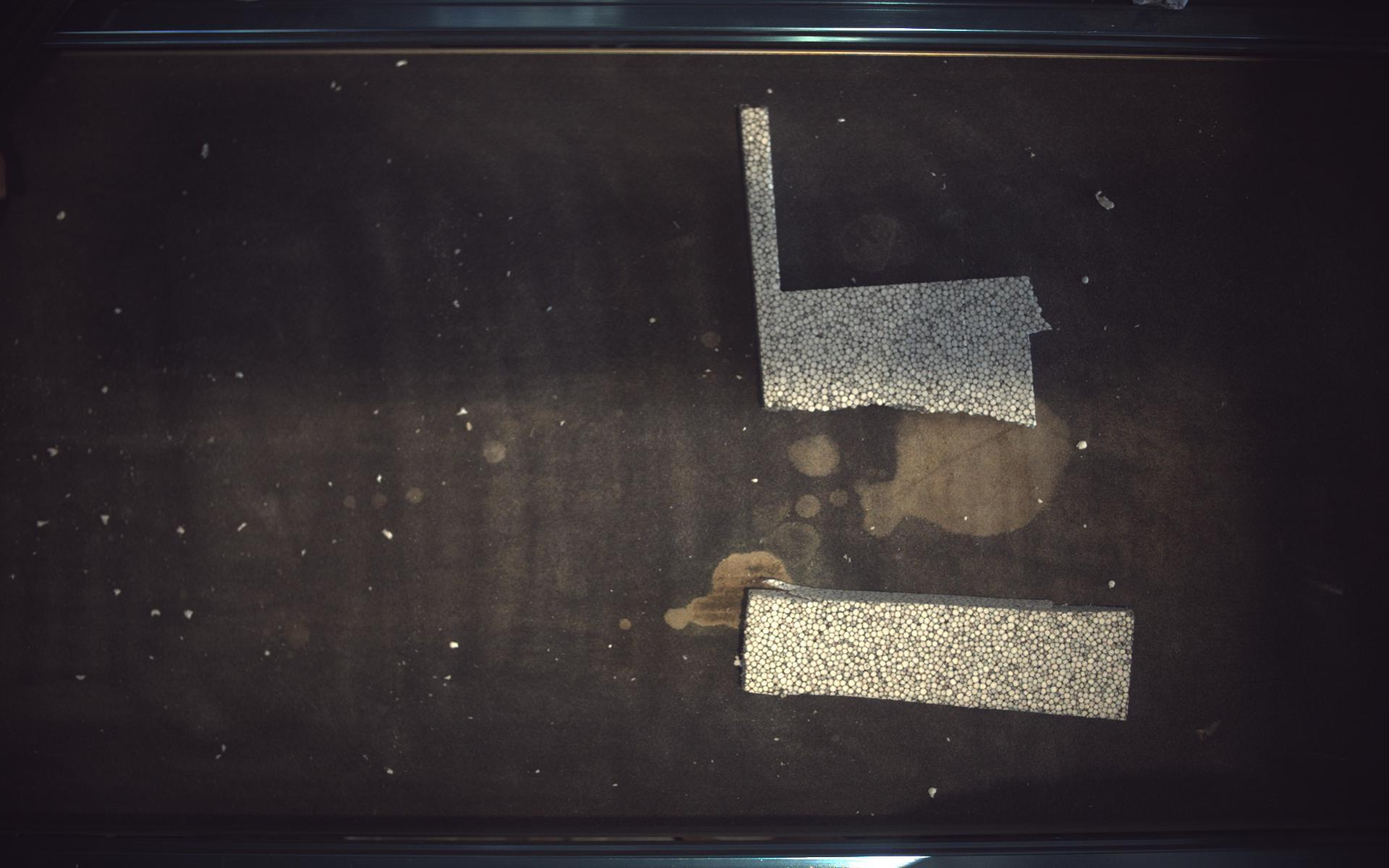foam: (743, 106, 1053, 426), (743, 581, 1137, 722)
